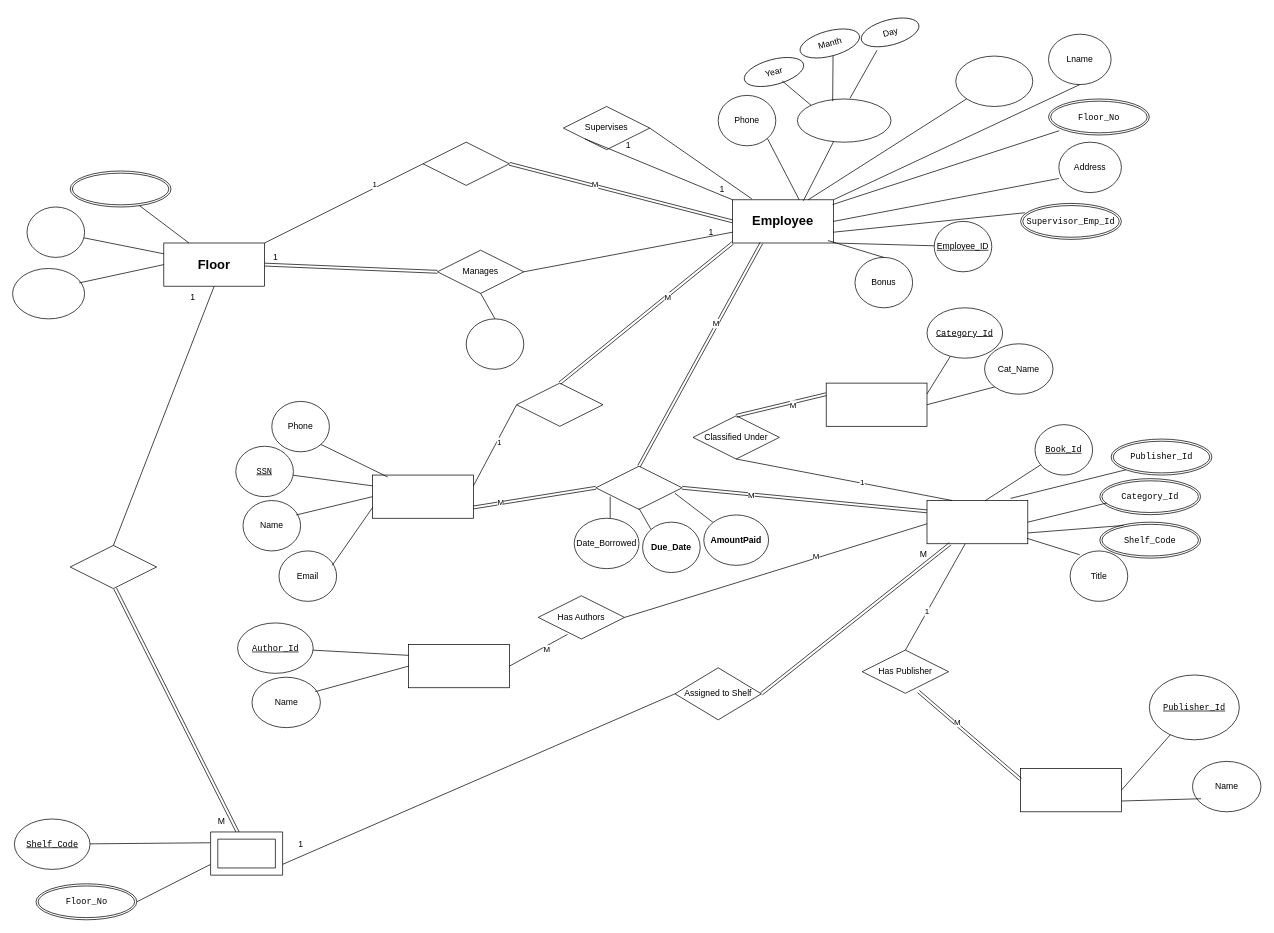
This 1274x933 diagram has some shape labels left out. Here are the shapes that lost their labels. From the top down, the centre of each, then its label:
At point (994, 80): "Fname".
At point (844, 120): "DateOfBirth".
At point (465, 163): "Works On".
At point (120, 188): "Manager_Emp_Id".
At point (55, 231): "Floor_NUM".
At point (48, 293): "No_Of_Blocks".
At point (494, 343): "HireDate".
At point (559, 404): "Records".
At point (876, 404): "Category".
At point (422, 496): "User".
At point (638, 487): "Borrows".
At point (977, 522): "Book".
At point (113, 567): "Contains Shelves".
At point (458, 666): "Authors".
At point (1070, 790): "Publisher".
At point (246, 853): "Shelf".
